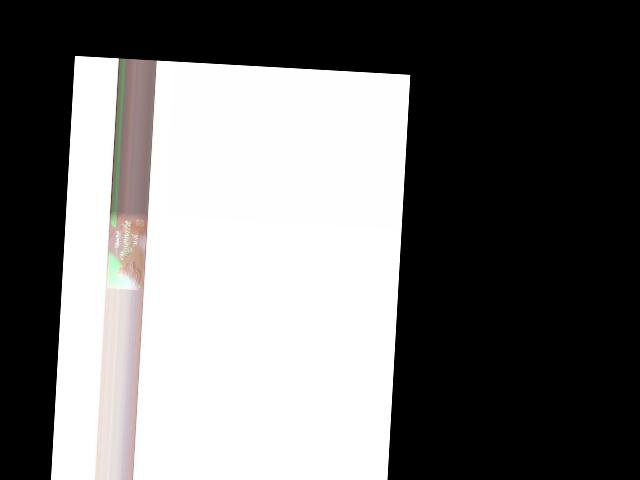chocolate: (107, 210, 147, 289)
